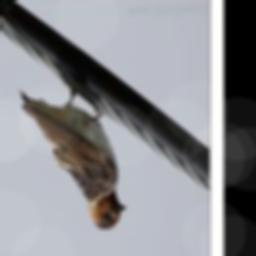Swallow: (15, 81, 126, 234)
